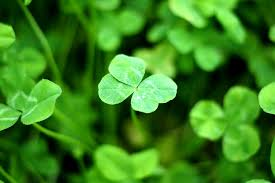4-clover: (97, 54, 179, 114)
